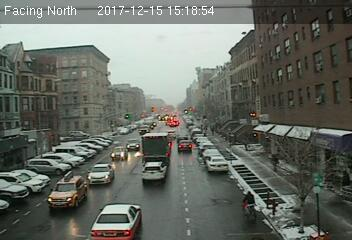bicycle: (241, 190, 259, 221)
car: (90, 203, 143, 240), (46, 173, 88, 209), (86, 164, 113, 185), (141, 162, 167, 182), (205, 154, 230, 171), (111, 146, 127, 160), (178, 140, 192, 150), (125, 140, 140, 149)
truck: (142, 132, 171, 158)
